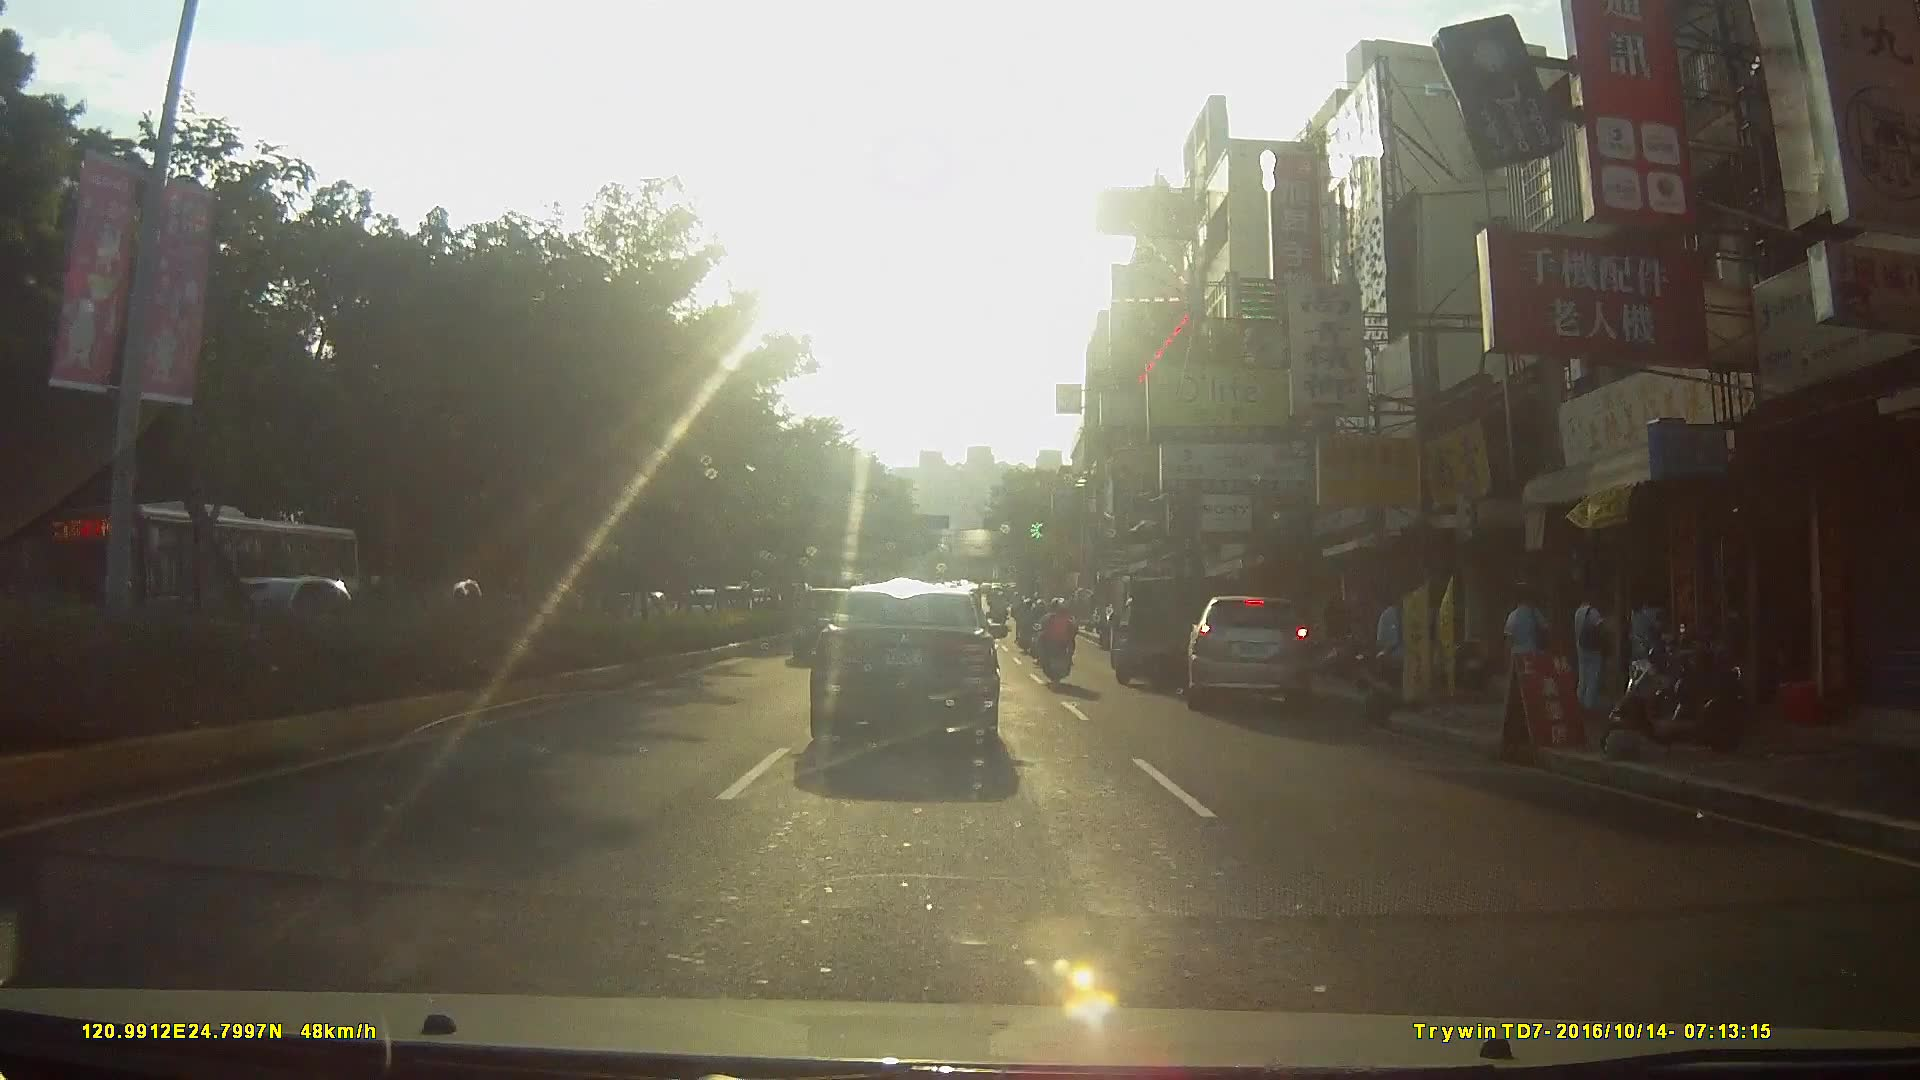pedestrian: (1501, 586, 1550, 718), (1571, 586, 1607, 725), (1621, 585, 1658, 704), (1376, 589, 1412, 688)
rider: (1036, 595, 1080, 692), (1016, 597, 1042, 658)
vehicle: (76, 505, 362, 666), (812, 591, 1029, 774), (1182, 595, 1331, 724), (1102, 564, 1228, 696)
